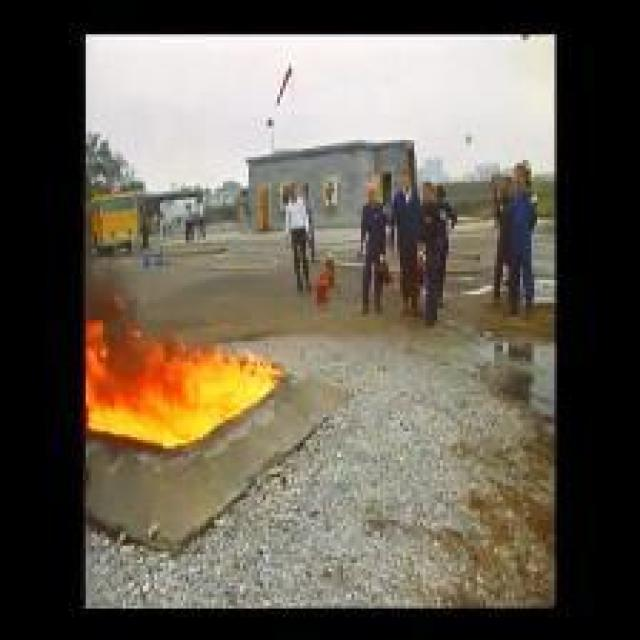smoke: (81, 302, 290, 450)
